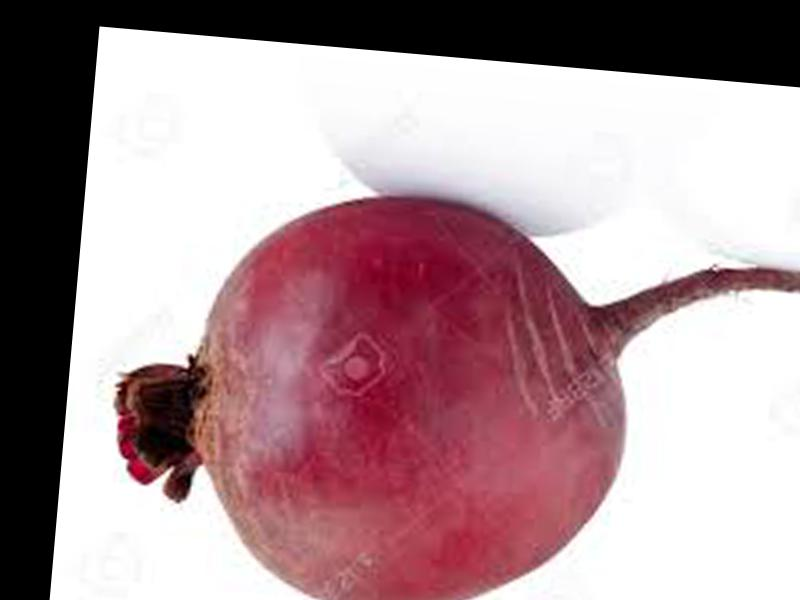Beet: (106, 174, 800, 600)
